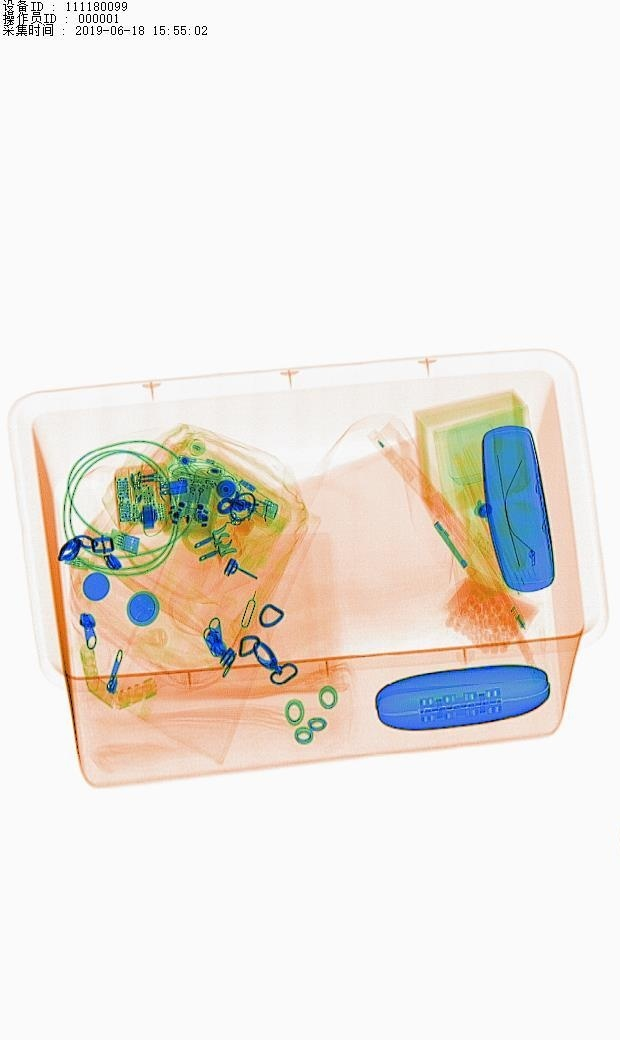NonmetallicFire: (203, 461, 292, 529)
